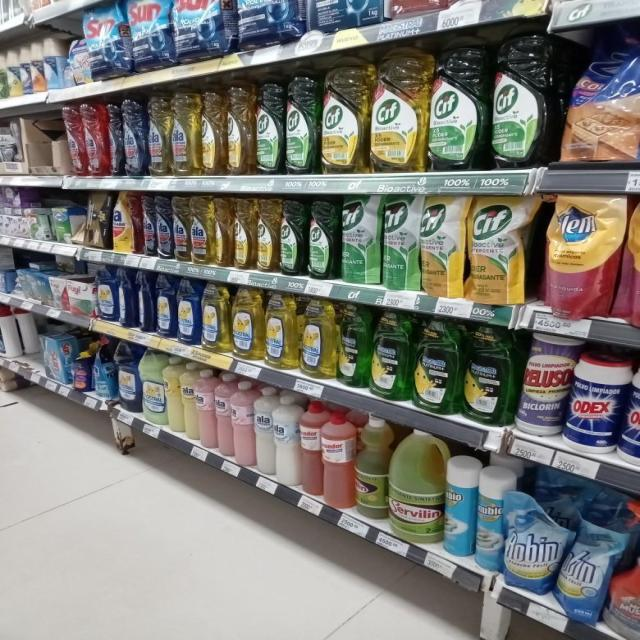ala_conc_amarillo: (172, 86, 200, 177), (147, 91, 171, 176), (191, 196, 213, 264), (173, 195, 190, 262)
ala_conc_azul: (621, 363, 640, 468), (124, 94, 146, 177), (108, 96, 123, 177), (156, 195, 172, 260), (142, 194, 156, 258)
ala_conc_rojo: (85, 99, 107, 177), (67, 103, 85, 177)
ala_crem_blanco: (275, 390, 299, 488), (255, 386, 274, 477)
cif_conc_bot_amarilla: (371, 46, 426, 173), (320, 56, 368, 175)
cif_conc_botella_verde: (490, 32, 553, 169), (428, 38, 486, 172), (286, 64, 318, 175), (255, 67, 284, 175), (308, 197, 338, 280), (281, 198, 306, 276)
cif_conc_sachet_amarillo: (469, 194, 528, 304), (420, 194, 466, 298)
cif_conc_sachet_verde: (340, 195, 380, 285), (382, 195, 419, 291)
magistral_con_amarillo: (301, 296, 336, 379), (265, 290, 298, 370), (232, 286, 264, 360), (202, 280, 230, 353)
magistral_con_azul: (117, 342, 141, 412), (177, 277, 200, 345), (155, 274, 176, 338)
magistral_con_verde: (371, 310, 410, 400)
